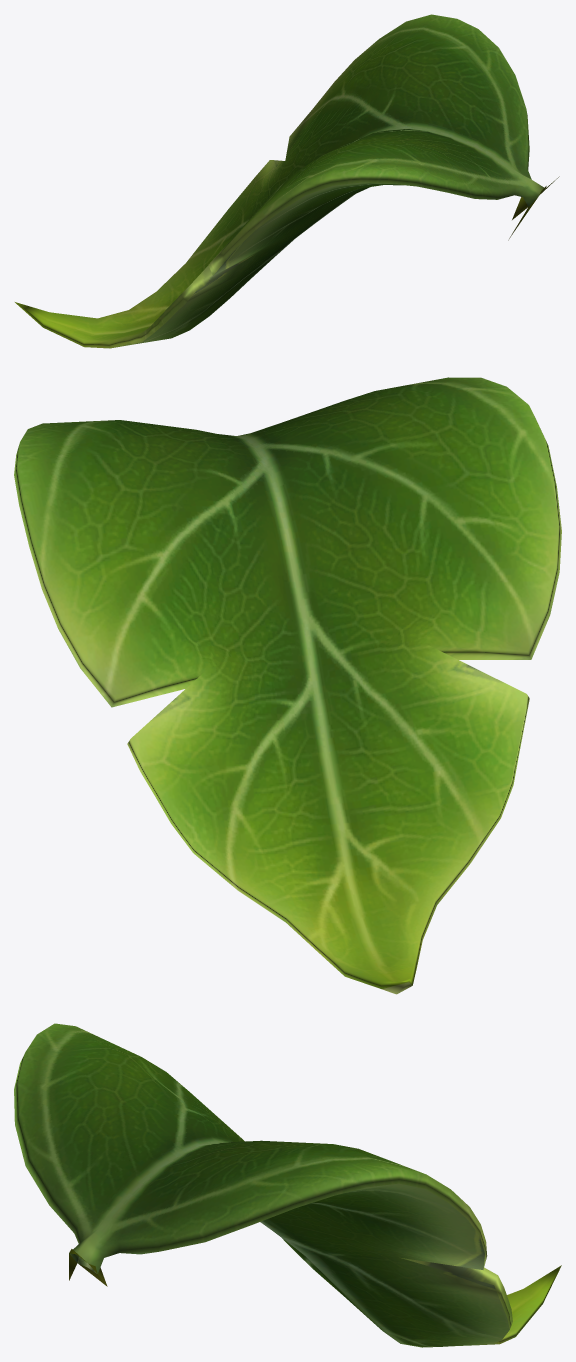
Rendered from peashooter_hoja_tras_der.obj.
The picture shows the model from 3 angles, top to bottom: view 1: azimuth 30°, elevation 25°; view 2: azimuth 150°, elevation 25°; view 3: azimuth 270°, elevation 25°; orthographic projection. The views are drawn at different scales.
Parts seen in each view (by area): view 1: peashooter_hoja_tras_der; view 2: peashooter_hoja_tras_der; view 3: peashooter_hoja_tras_der.
Boxes of the visible parts, left/top/right/bottom form: peashooter_hoja_tras_der: left=15, top=14, right=559, bottom=348; peashooter_hoja_tras_der: left=14, top=377, right=561, bottom=994; peashooter_hoja_tras_der: left=14, top=1023, right=561, bottom=1347.
Size of the model in its own units: 0.3794 by 0.2728 by 0.3793.
